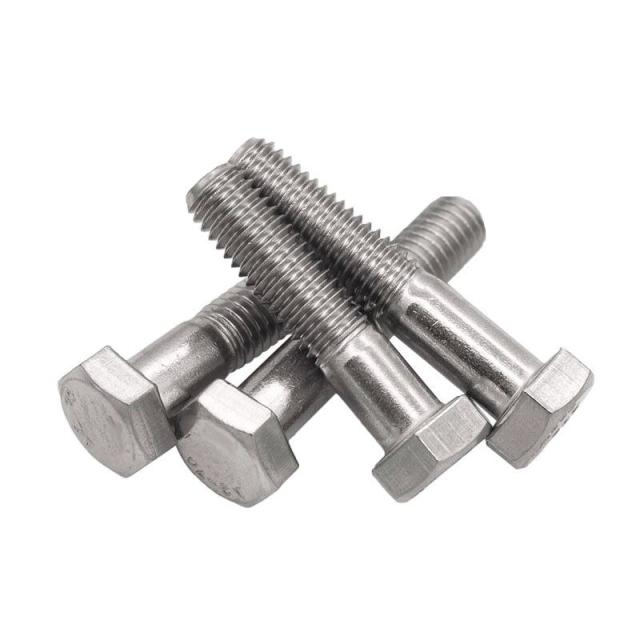Bolt: (227, 136, 596, 470), (183, 167, 492, 502), (170, 194, 488, 506), (55, 272, 290, 480)
